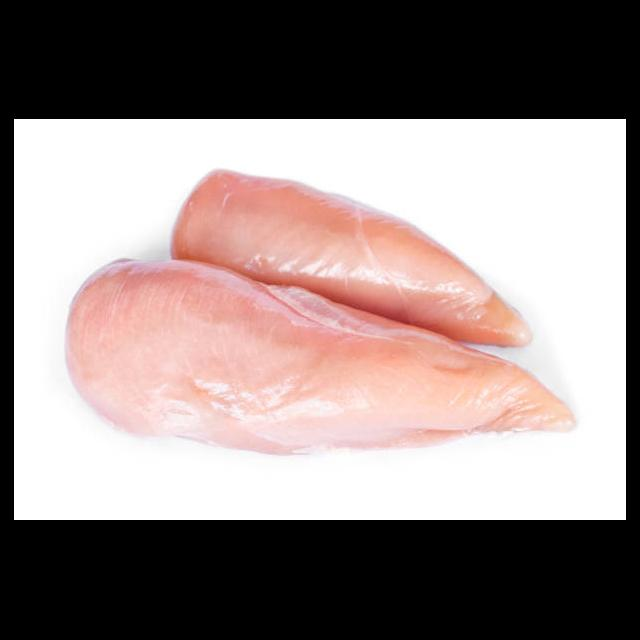chicken: (63, 257, 579, 458), (170, 168, 536, 348)
